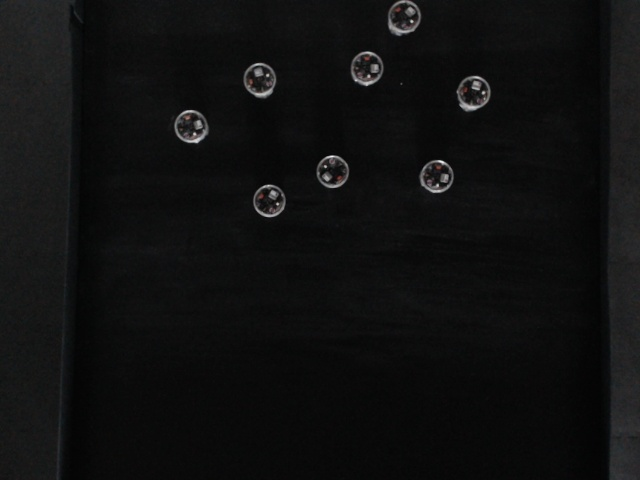epuck_2: (416, 156, 456, 196), (384, 1, 426, 37), (349, 49, 386, 88), (242, 61, 279, 99), (314, 151, 349, 189), (253, 182, 289, 218), (173, 108, 208, 145), (456, 74, 489, 112)
